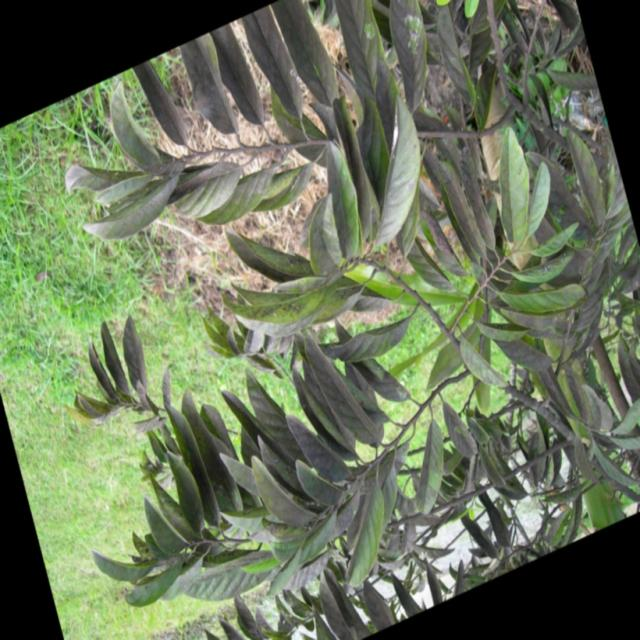Sooty Mold: (62, 0, 640, 639)
